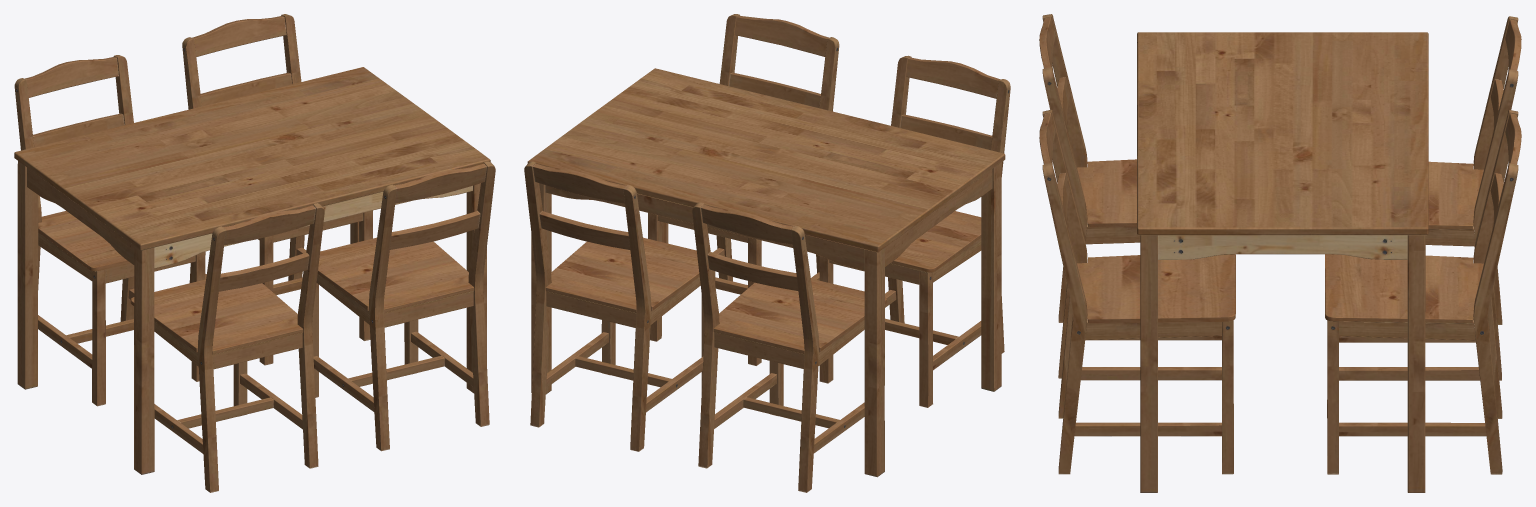
File: hagernas_sto_i_4_krzesa_70575947.glb
3 views of the same model, side by side, from view 1: azimuth 30°, elevation 25°; view 2: azimuth 150°, elevation 25°; view 3: azimuth 270°, elevation 25° (orthographic). The views are drawn at different scales.
Visible parts, largest first — view 1: hagernas_sto_i_4_krzesa_70575947; view 2: hagernas_sto_i_4_krzesa_70575947; view 3: hagernas_sto_i_4_krzesa_70575947.
Part boxes in pixels (bbox=[...]): hagernas_sto_i_4_krzesa_70575947: bbox=[14, 14, 495, 492]; hagernas_sto_i_4_krzesa_70575947: bbox=[524, 14, 1010, 492]; hagernas_sto_i_4_krzesa_70575947: bbox=[1039, 14, 1521, 492].
Bounding box in the file's own units: 1.18 × 0.8737 × 1.22.
1 material, 1 textured.
